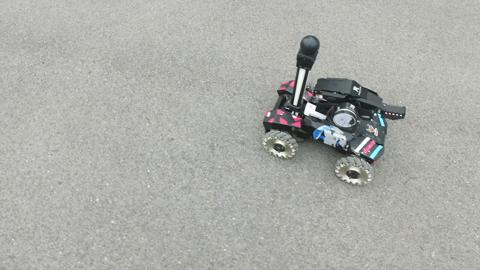chariot: (260, 33, 408, 185)
